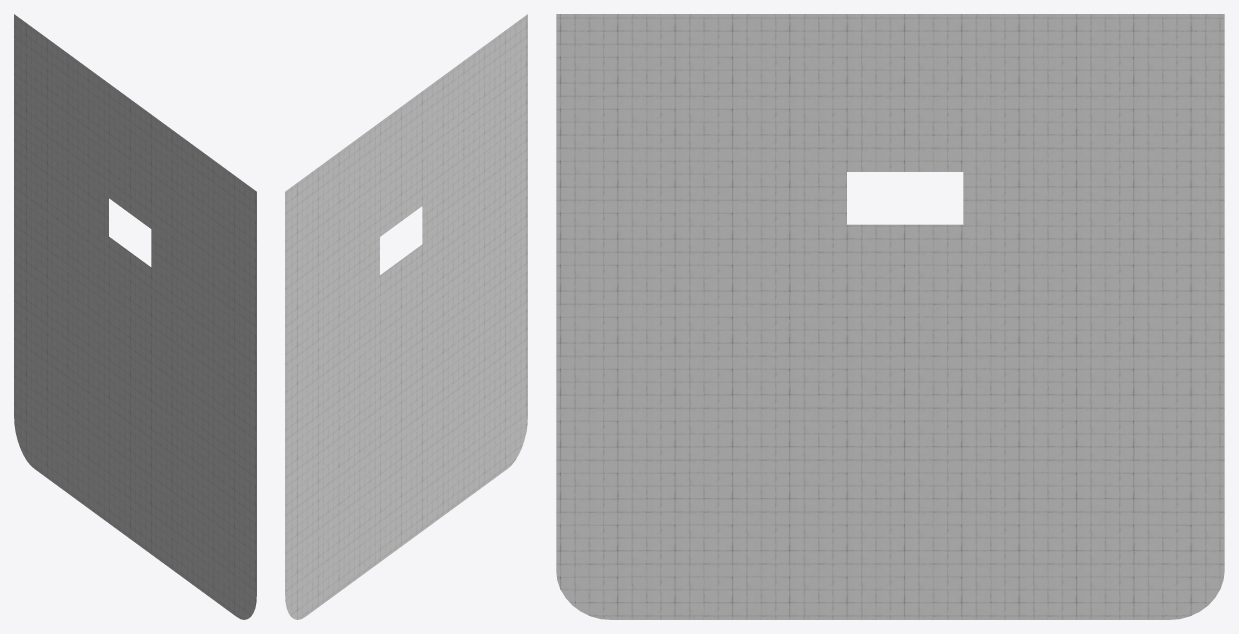
3 views of the same model, side by side, from view 1: azimuth 30°, elevation 25°; view 2: azimuth 150°, elevation 25°; view 3: azimuth 270°, elevation 25° (orthographic). The views are drawn at different scales.
Visible parts, largest first — view 1: S_R_06_01_R.001; view 2: S_R_06_01_R.001; view 3: S_R_06_01_R.001.
Part boxes in pixels (left/top/right/bottom): S_R_06_01_R.001: left=14, top=14, right=256, bottom=619; S_R_06_01_R.001: left=285, top=14, right=527, bottom=619; S_R_06_01_R.001: left=556, top=14, right=1224, bottom=619.
Bounding box in the file's own units: 0 × 29.44 × 29.44.
